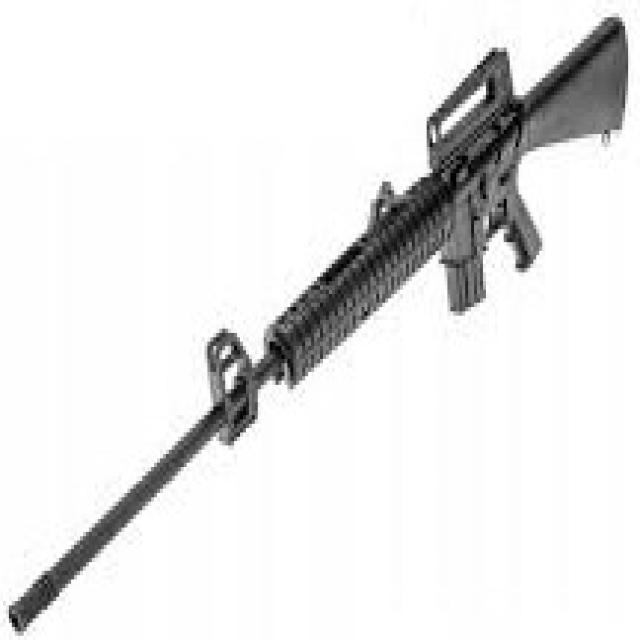rifle: (8, 13, 634, 640)
